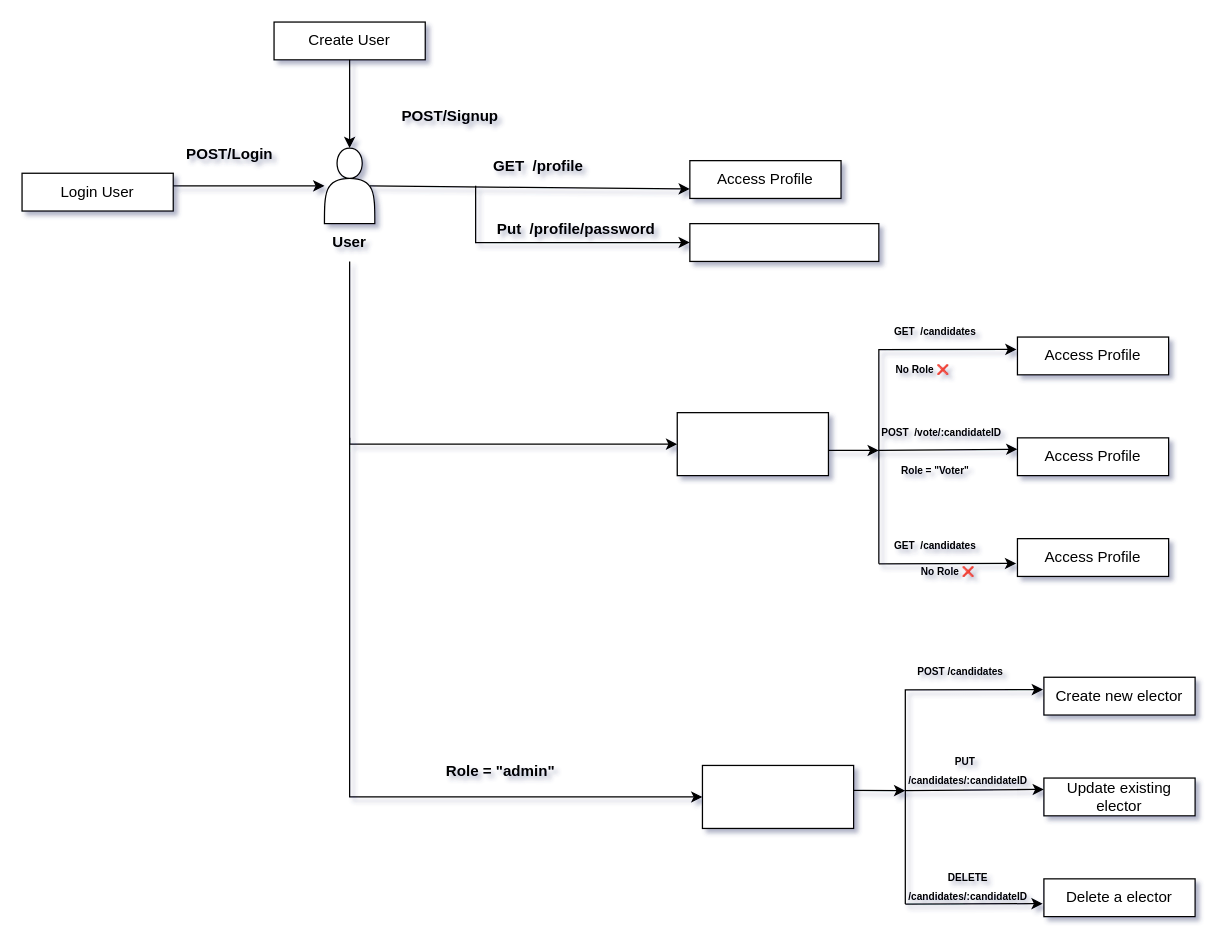
Some shapes in this 1225 by 946 pixel diagram are drawn without their labels. Each missing label, with the box of its shape:
Candidate Management: (701, 764, 854, 828)
Profile password change: (689, 222, 879, 261)
Vote: (676, 411, 828, 476)
